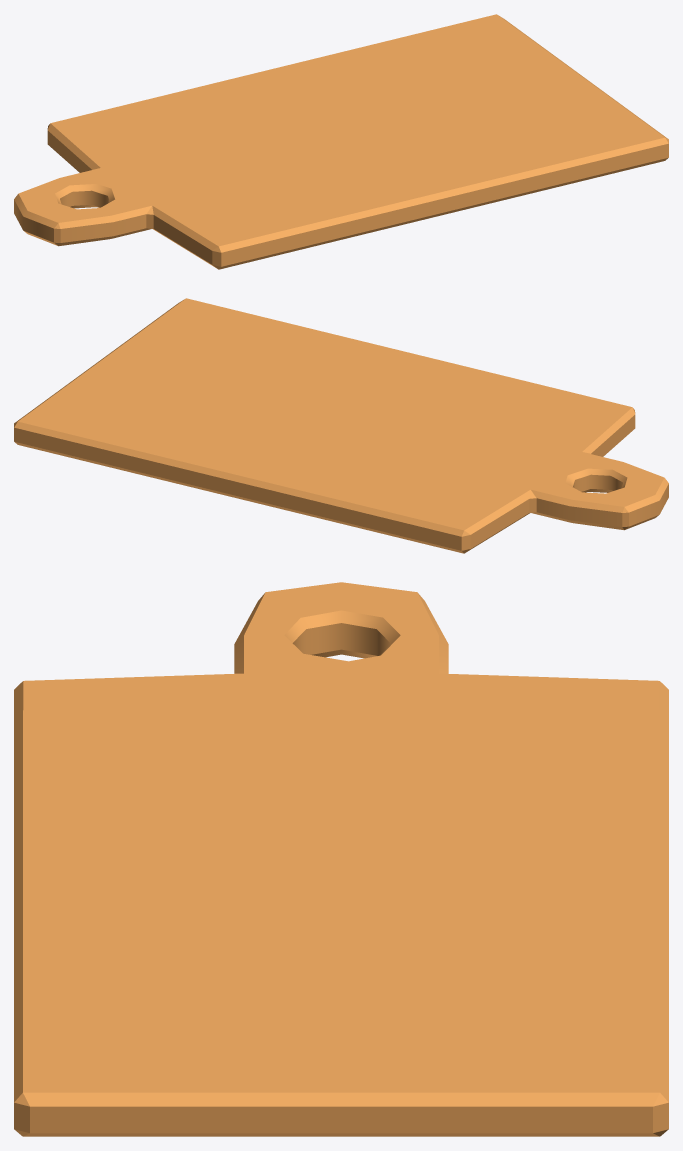
Rendered from Cutting_board_03.fbx.
3 renders of one model, top to bottom at view 1: azimuth 30°, elevation 25°; view 2: azimuth 150°, elevation 25°; view 3: azimuth 270°, elevation 25°, orthographic. The views are drawn at different scales.
Parts seen in each view (by area): view 1: Cutting_board_03; view 2: Cutting_board_03; view 3: Cutting_board_03.
Boxes of the visible parts, bbox=[...] form: Cutting_board_03: bbox=[14, 14, 668, 269]; Cutting_board_03: bbox=[14, 298, 668, 553]; Cutting_board_03: bbox=[14, 582, 668, 1136].
Bounding box in the file's own units: 128 × 68 × 5.05.
